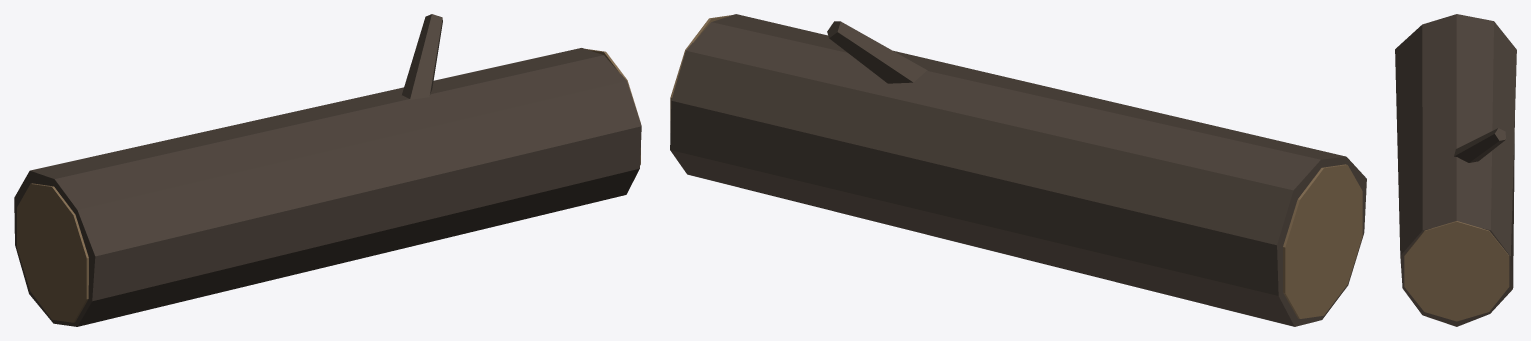
The model's file is tronco_asiento.glb.
The picture shows the model from 3 angles, left to right: view 1: azimuth 30°, elevation 25°; view 2: azimuth 150°, elevation 25°; view 3: azimuth 270°, elevation 25°; orthographic projection. The views are drawn at different scales.
Parts seen in each view (by area): view 1: TroncoAsiento; view 2: TroncoAsiento; view 3: TroncoAsiento.
Boxes of the visible parts, x1,y1,x2,y2 form: TroncoAsiento: (14, 14, 641, 326); TroncoAsiento: (670, 14, 1366, 326); TroncoAsiento: (1395, 14, 1516, 326).
Size of what is drawn, in the model's own units: 1.31 by 0.4395 by 0.3319.
